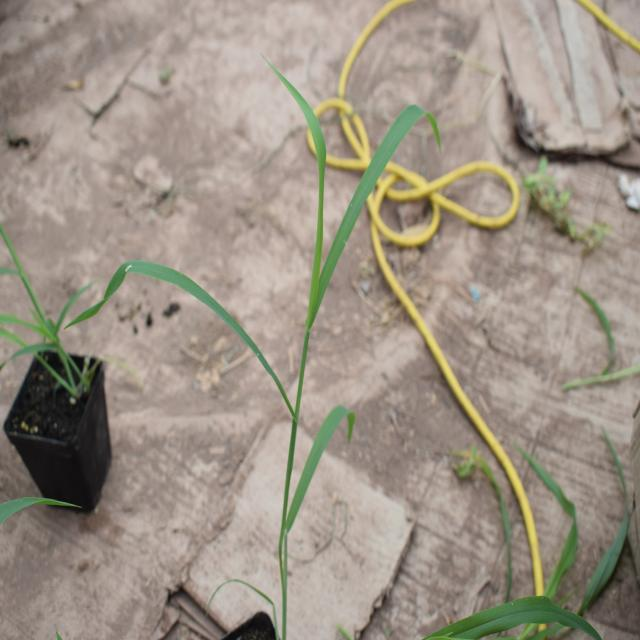crabgrass: (130, 45, 420, 501)
